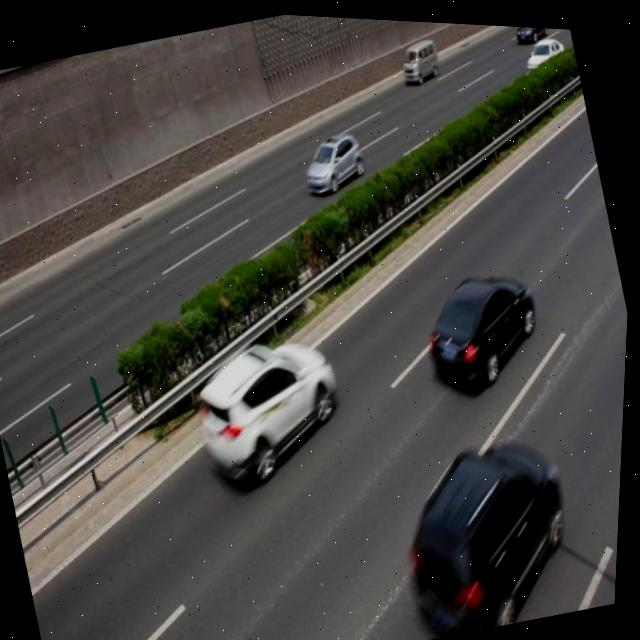car: (381, 422, 595, 640), (183, 319, 361, 498), (415, 256, 553, 395), (296, 123, 371, 197), (518, 26, 569, 79), (508, 21, 549, 40)
truck: (395, 32, 441, 81)
